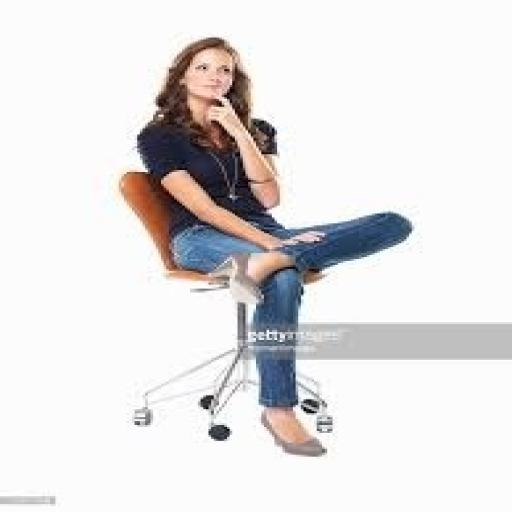sitting: (127, 34, 414, 456)
